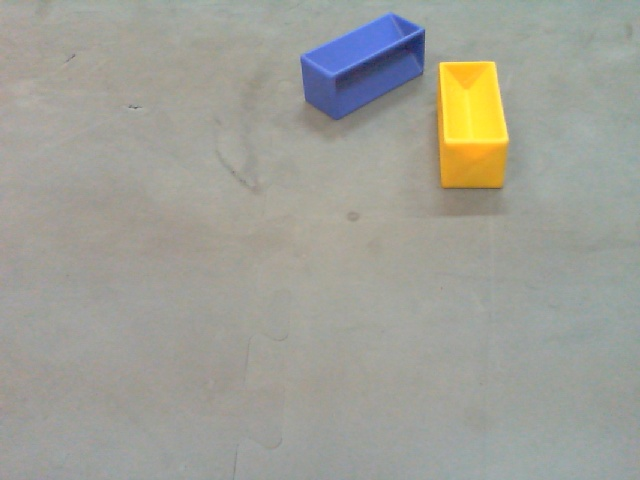BlueSample: (298, 12, 428, 119)
YellowSample: (436, 61, 511, 189)
